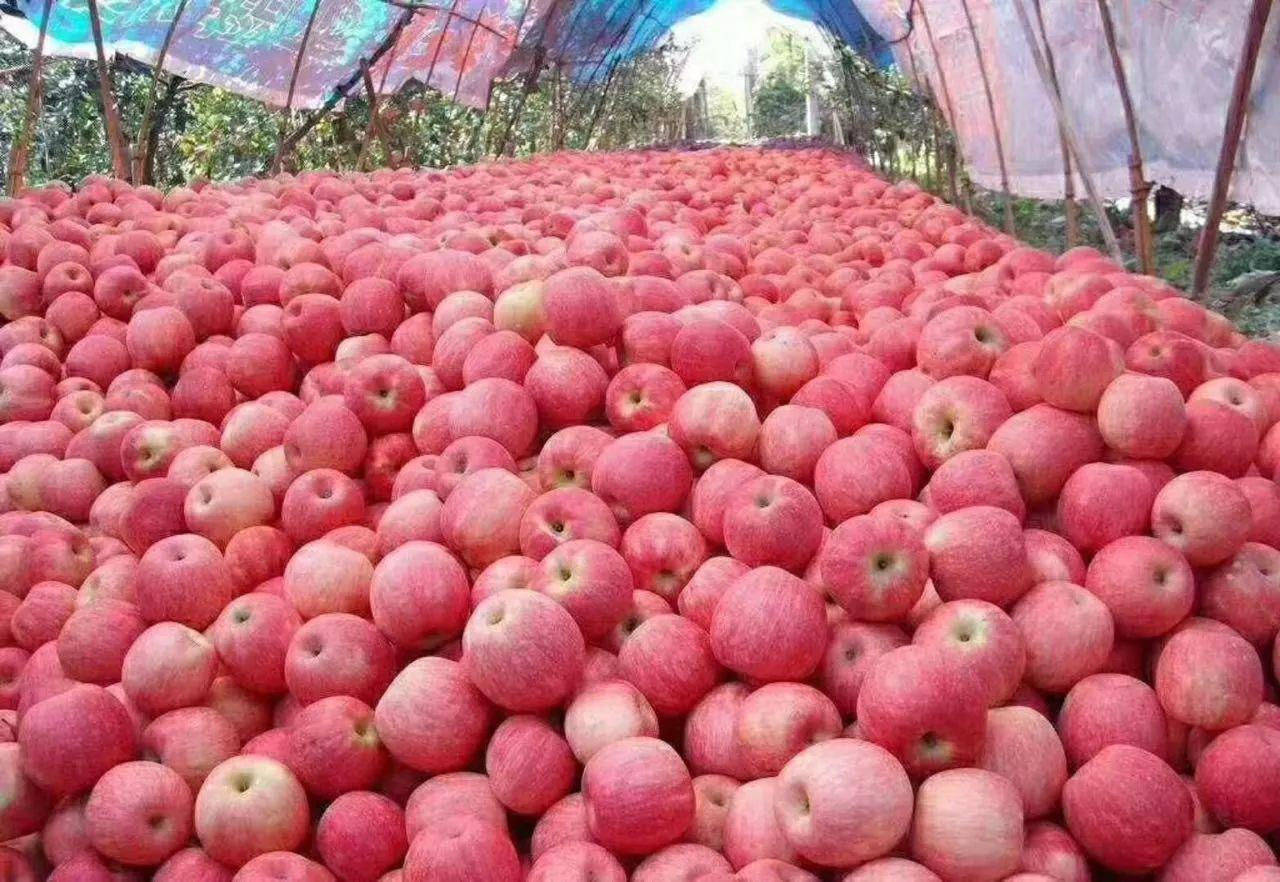apple: (777, 736, 910, 864), (853, 646, 986, 766), (1061, 744, 1192, 863), (459, 589, 586, 711), (812, 510, 932, 626), (713, 563, 833, 679), (375, 654, 495, 770), (903, 766, 1022, 882), (193, 752, 309, 867), (19, 682, 135, 797), (582, 731, 692, 850), (1152, 622, 1264, 733), (1007, 576, 1119, 687), (370, 542, 476, 650), (1087, 530, 1195, 635), (533, 540, 634, 643), (117, 621, 222, 718), (284, 608, 389, 705), (616, 614, 714, 714), (1149, 468, 1254, 560), (911, 375, 1010, 471), (134, 532, 232, 626), (437, 463, 534, 557), (724, 473, 821, 567), (989, 411, 1092, 497), (215, 594, 306, 691), (488, 707, 574, 809), (1098, 372, 1191, 464), (594, 429, 693, 515), (313, 788, 405, 879), (315, 790, 407, 881), (811, 431, 914, 511), (917, 376, 1013, 459), (670, 374, 756, 462), (1036, 325, 1122, 413), (1054, 460, 1148, 540), (621, 513, 709, 596), (516, 489, 617, 559), (920, 301, 1011, 378), (1175, 393, 1256, 479), (449, 377, 537, 454), (534, 267, 622, 344), (524, 346, 612, 423), (286, 403, 368, 476), (187, 465, 271, 536), (343, 353, 427, 424), (279, 464, 363, 535), (59, 605, 131, 685), (606, 363, 683, 435), (760, 404, 834, 477), (672, 320, 751, 383), (540, 425, 614, 490)
